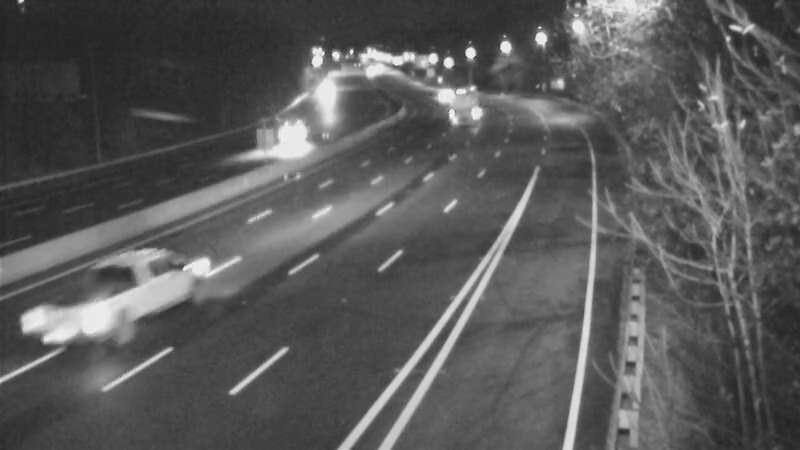vehicle: (85, 256, 165, 336), (417, 71, 467, 121), (433, 74, 483, 124), (263, 99, 313, 149), (300, 69, 350, 119)
